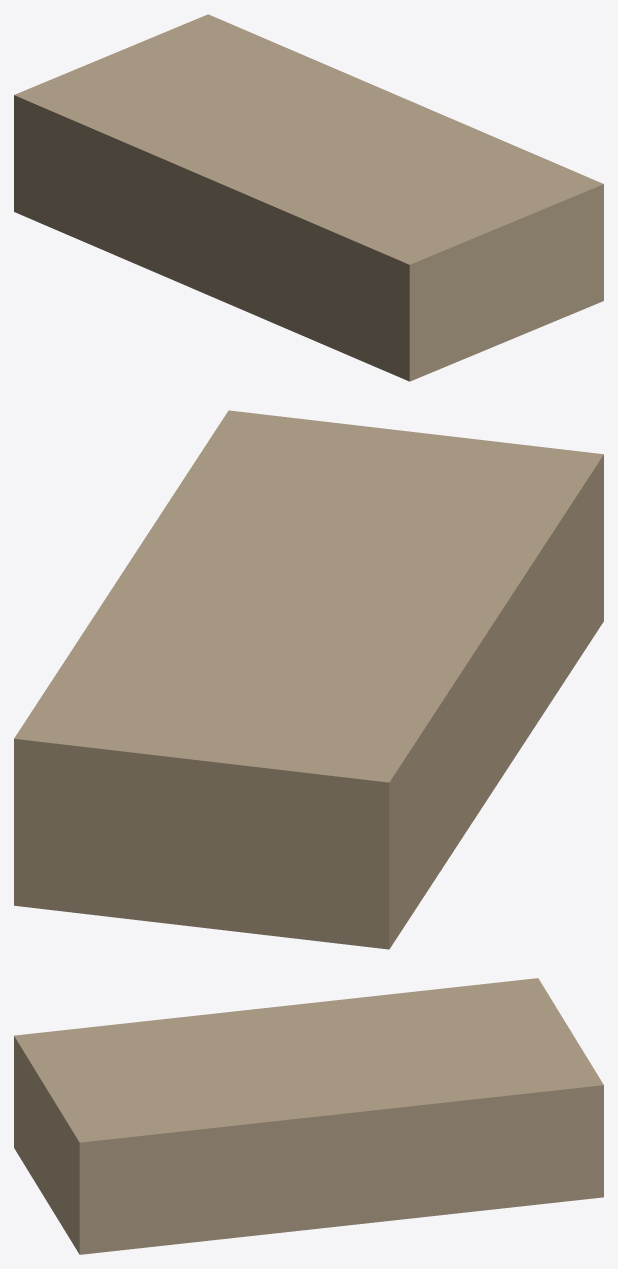
The model's file is bld_353211799.dae.
The picture shows the model from 3 angles, top to bottom: view 1: azimuth 30°, elevation 25°; view 2: azimuth 150°, elevation 25°; view 3: azimuth 270°, elevation 25°; orthographic projection. The views are drawn at different scales.
Visible parts, largest first — view 1: bld_353211799; view 2: bld_353211799; view 3: bld_353211799.
Part boxes in pixels (x1=…): bld_353211799: x1=14, y1=14, x2=603, y2=381; bld_353211799: x1=14, y1=410, x2=603, y2=949; bld_353211799: x1=14, y1=978, x2=603, y2=1254.
Size of the model in its own units: 25.17 by 38.12 by 8.
